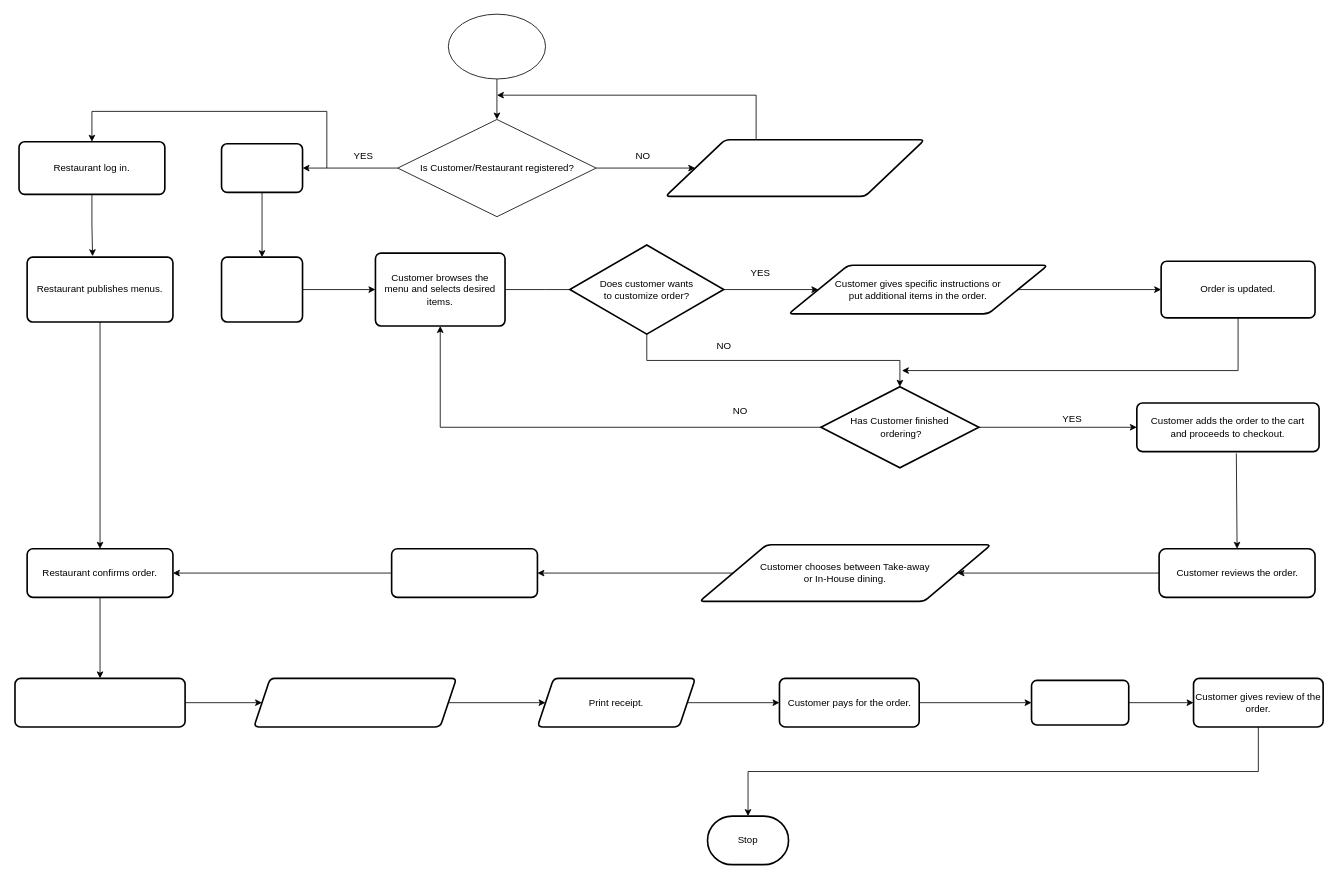
Some shapes in this 1337 by 880 pixel diagram are drawn without their labels. Here are the shapes that lost their labels. From the top down, the centre of each, then its label:
At point (497, 46): "Start".
At point (261, 168): "Customer logs in".
At point (794, 168): "Customer/Restaurant creates account.".
At point (261, 289): "Customer searches for restaurant.".
At point (464, 573): "Customer submits order.".
At point (99, 702): "Restaurant prepares food and updates order status.".
At point (355, 702): "Restaurant marks order as ready for Take-away or In-House dining".
At point (1079, 702): "Customer receives the order.".
